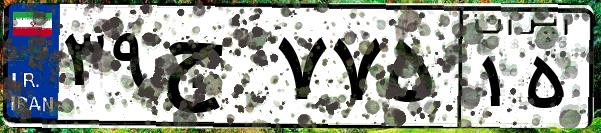1: (475, 38, 525, 113)
3: (57, 26, 110, 100)
5: (385, 28, 445, 110), (525, 38, 570, 115)
7: (270, 28, 330, 110), (330, 28, 385, 110)
9: (110, 28, 158, 98)
ج: (158, 20, 270, 120)
